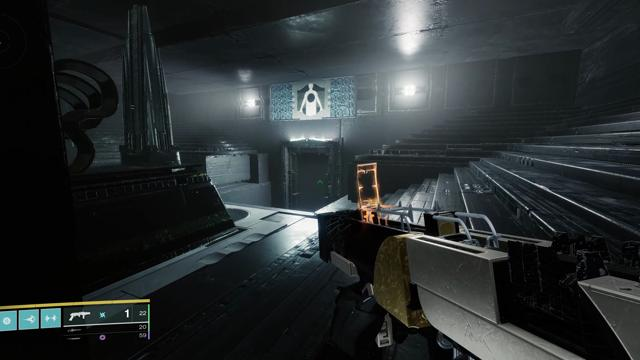grief: (297, 83, 325, 116)
